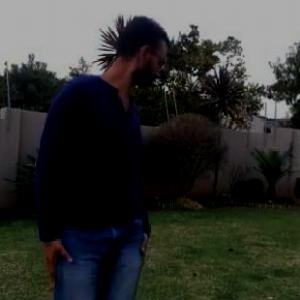follow: (38, 8, 169, 299)
